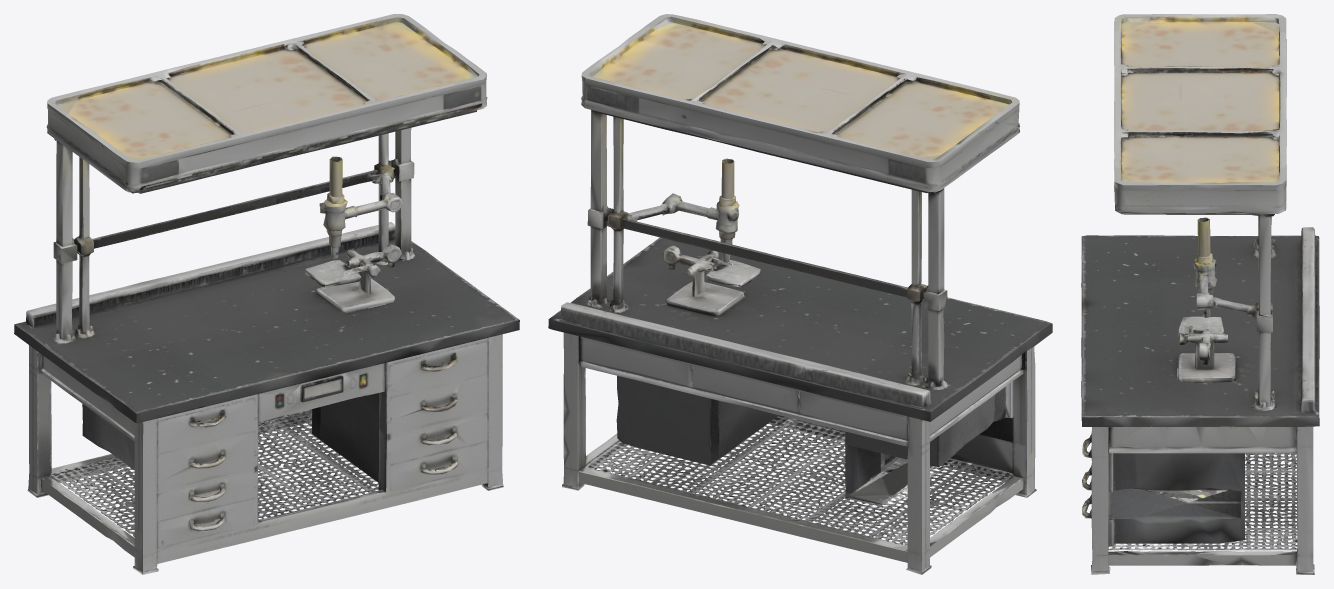
The model's file is lab_table_a.glb.
3 renders of one model, left to right at view 1: azimuth 30°, elevation 25°; view 2: azimuth 150°, elevation 25°; view 3: azimuth 270°, elevation 25°, orthographic. The views are drawn at different scales.
Parts seen in each view (by area): view 1: lab_table_a; view 2: lab_table_a; view 3: lab_table_a.
Boxes of the visible parts, <box> form: lab_table_a: <box>14,14,519,574</box>; lab_table_a: <box>548,14,1052,574</box>; lab_table_a: <box>1081,14,1319,574</box>.
Size of the model in its own units: 2.2 by 2.2 by 1.21.
2 materials, 2 textured.
